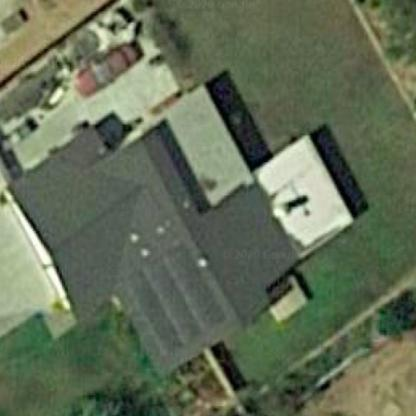car: (63, 41, 150, 98)
solar_panel: (112, 242, 230, 358)
